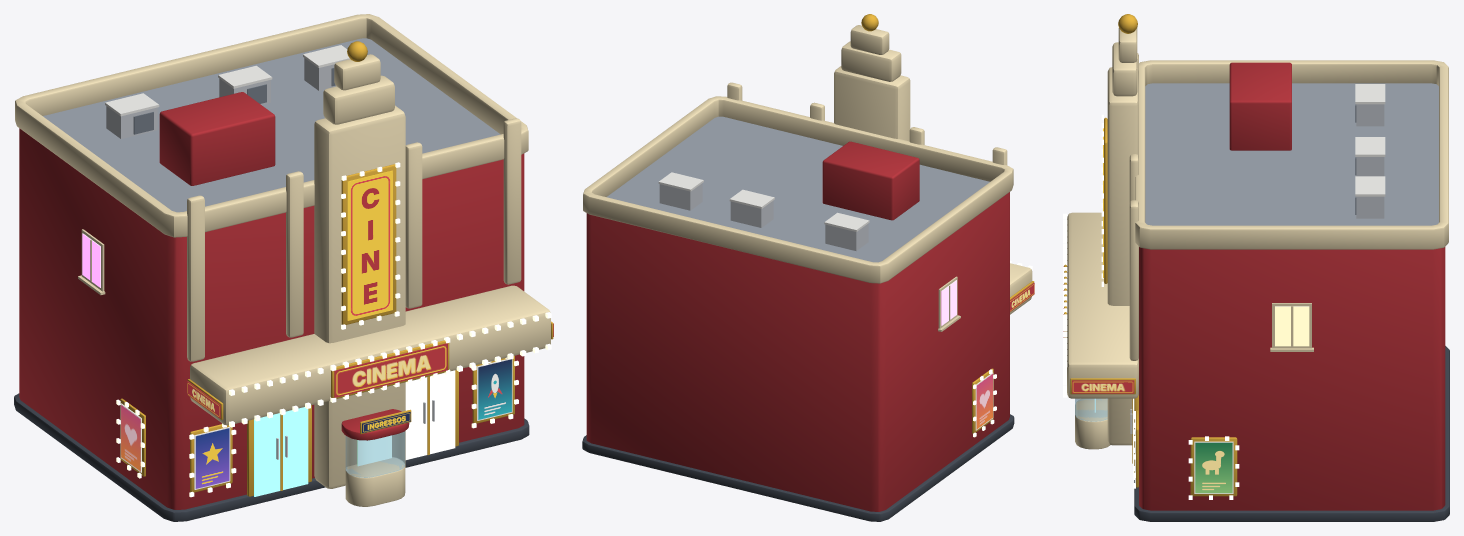
Rendered from cinema.glb.
3 views of the same model, side by side, from view 1: azimuth 30°, elevation 25°; view 2: azimuth 150°, elevation 25°; view 3: azimuth 270°, elevation 25° (orthographic). The views are drawn at different scales.
Visible parts, largest first — view 1: cinema; view 2: cinema; view 3: cinema.
Boxes of the visible parts, x1,y1,x2,y2 form: cinema: (14,14,553,521); cinema: (582,14,1034,521); cinema: (1063,14,1449,521).
Bounding box in the file's own units: 12.96 × 14.92 × 12.38.
Materials: 9 (2 with a texture image).
